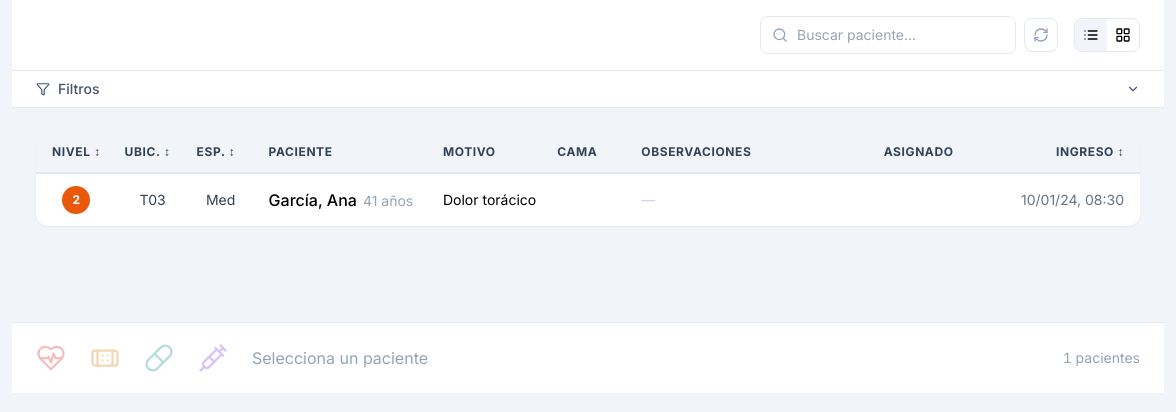
Doctor admit toggle › shows Ingresar button for doctor when patient selected
Click the text "García, Ana": {"x": 342, "y": 200} [253,173,431,226]
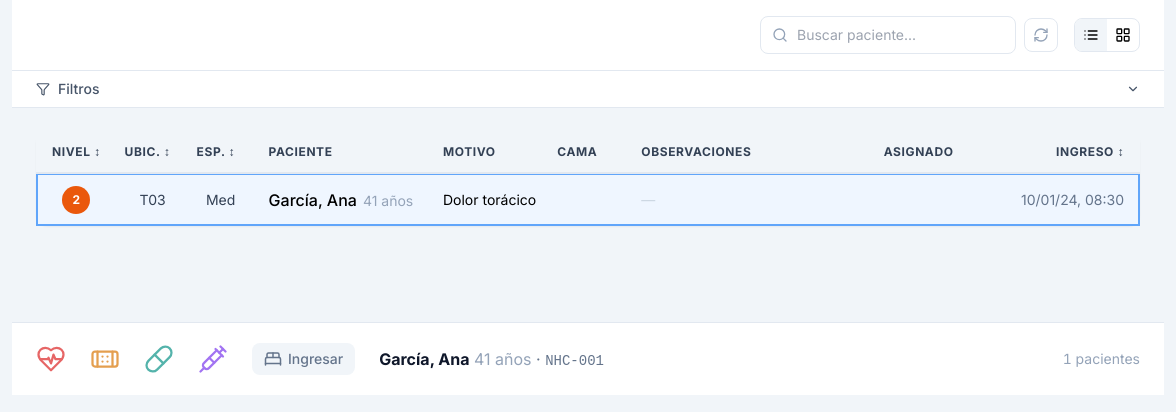
expect the button with test id "admit-toggle" reads "Ingresar": met, box [252,343,355,375]
